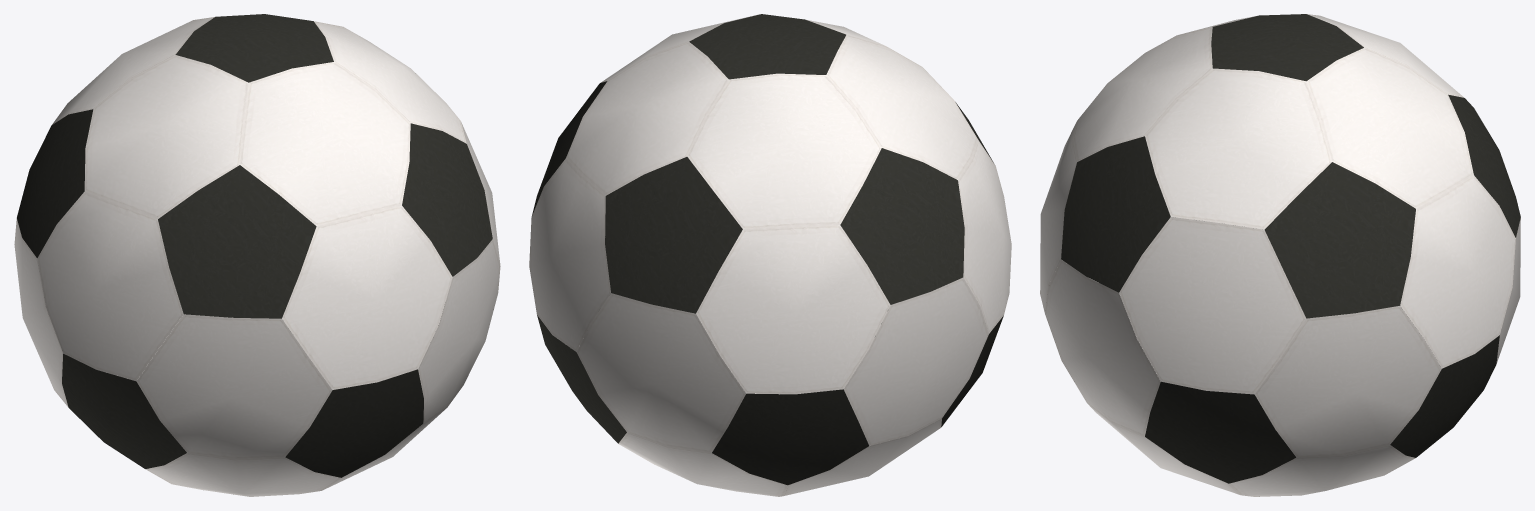
The model's file is soccer_ball.fbx.
3 views of the same model, side by side, from view 1: azimuth 30°, elevation 25°; view 2: azimuth 150°, elevation 25°; view 3: azimuth 270°, elevation 25° (orthographic).
Visible parts, largest first — view 1: body; view 2: body; view 3: body.
Part boxes in pixels (x1,y1,x2,y2): body: (14, 14, 500, 496); body: (529, 14, 1011, 496); body: (1040, 14, 1520, 496).
Size of the model in its own units: 4.8 by 4.72 by 4.8.
